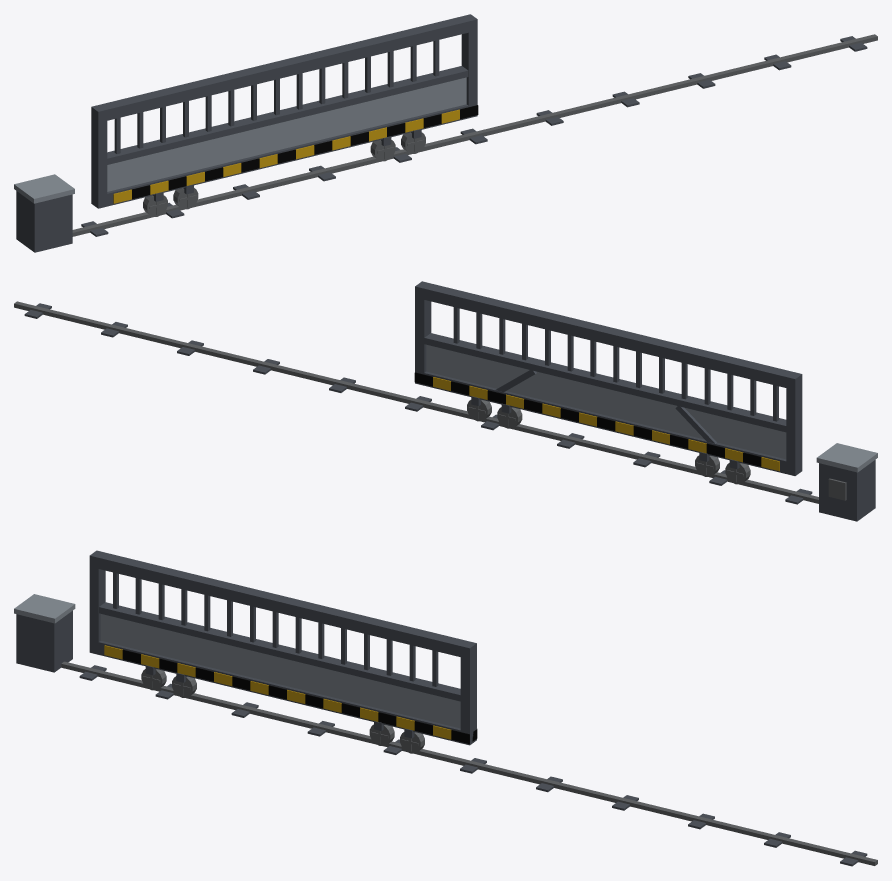
Rendered from poort.glb.
3 views of the same model, one above another, from view 1: azimuth 30°, elevation 25°; view 2: azimuth 150°, elevation 25°; view 3: azimuth 330°, elevation 25° (orthographic).
Visible parts, largest first — view 1: Poort_donker, Poort_staal, Vast_metaal, Vast_donker, Poort_zwart, Poort_geel, Vast_staal; view 2: Poort_donker, Poort_staal, Vast_metaal, Vast_donker, Poort_zwart, Poort_geel, Vast_staal; view 3: Poort_donker, Poort_staal, Vast_metaal, Vast_donker, Poort_zwart, Poort_geel, Vast_staal.
Boxes of the visible parts, x1,y1,x2,y2 form: Poort_donker: (91,14,477,208); Poort_staal: (107,77,466,191); Vast_metaal: (72,34,877,236); Vast_donker: (16,36,867,252); Poort_zwart: (132,105,478,199); Poort_geel: (113,109,459,203); Vast_staal: (14,174,74,203); Poort_donker: (415,281,802,475); Poort_staal: (426,344,786,459); Vast_metaal: (14,301,846,503); Vast_donker: (24,303,875,521); Poort_zwart: (414,372,761,466); Poort_geel: (433,377,779,471); Vast_staal: (816,443,877,472); Poort_donker: (89,550,476,745); Poort_staal: (100,614,460,728); Vast_metaal: (61,661,877,865); Vast_donker: (16,610,867,866); Poort_zwart: (122,649,477,743); Poort_geel: (104,645,451,739); Vast_staal: (14,594,75,623).
Size of the model in its own units: 11.22 by 1.52 by 0.465.
